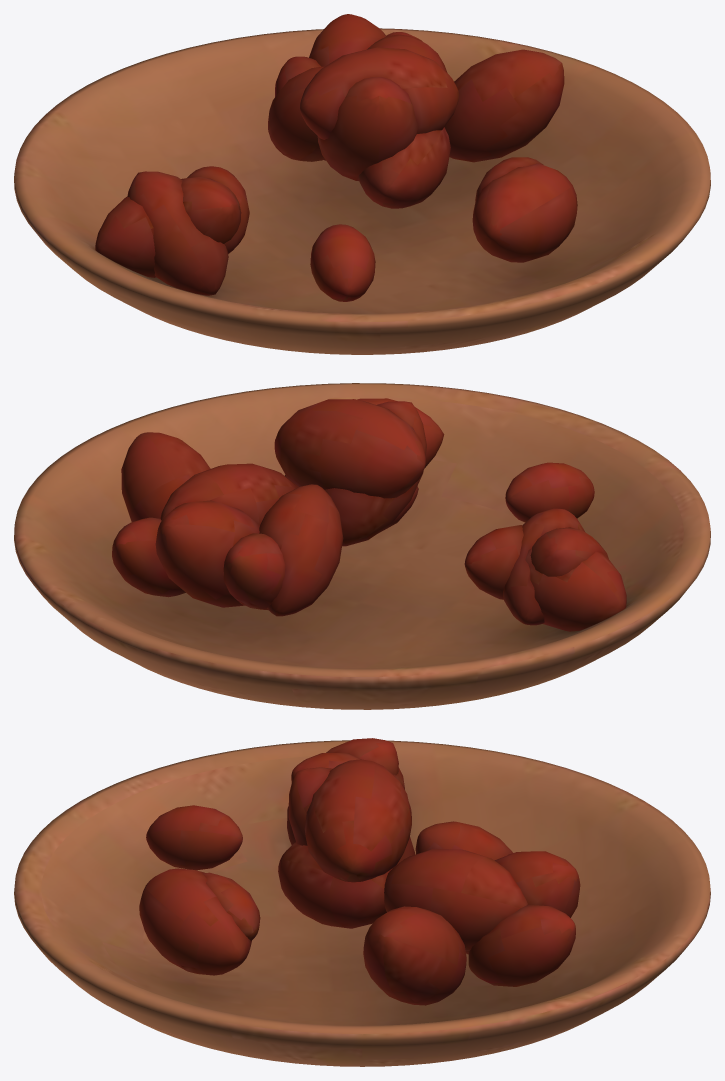
File: rosehip.glb
3 renders of one model, top to bottom at view 1: azimuth 30°, elevation 25°; view 2: azimuth 150°, elevation 25°; view 3: azimuth 270°, elevation 25°, orthographic.
Visible parts, largest first — view 1: rosehip; view 2: rosehip; view 3: rosehip.
Part boxes in pixels (bbox=[...]): rosehip: bbox=[14, 14, 710, 354]; rosehip: bbox=[14, 383, 710, 709]; rosehip: bbox=[14, 738, 710, 1066].
Bounding box in the file's own units: 0.0901 × 0.031 × 0.0901.
1 material, 1 textured.
